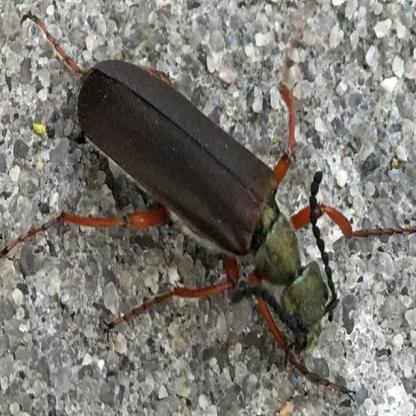beetle: (28, 13, 370, 391)
